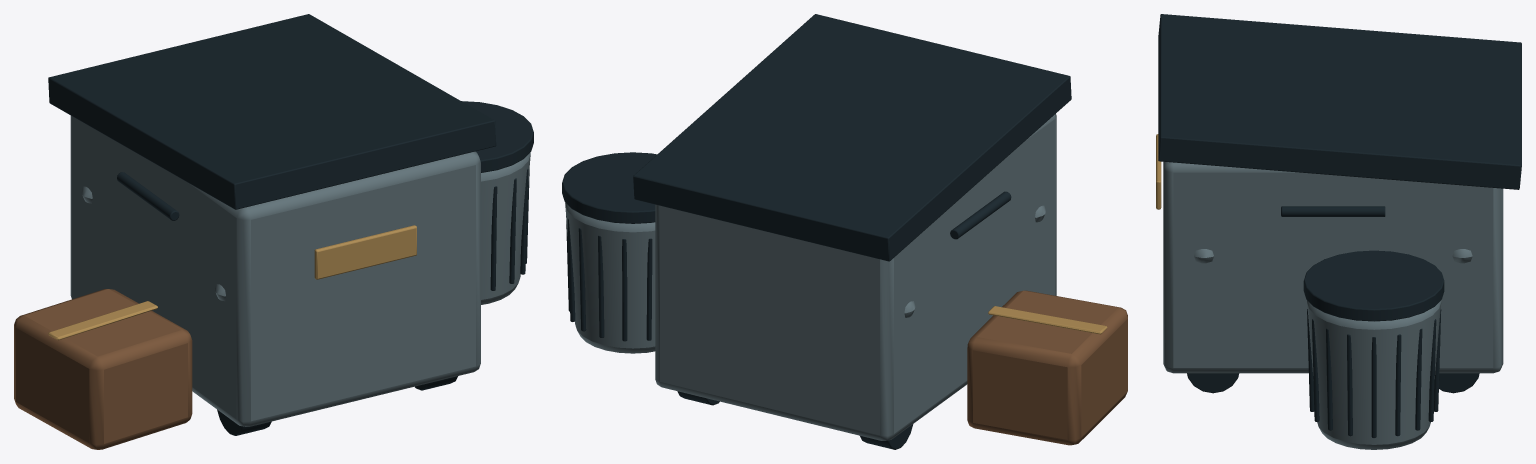
File: alley_props.glb
3 renders of one model, left to right at view 1: azimuth 30°, elevation 25°; view 2: azimuth 150°, elevation 25°; view 3: azimuth 270°, elevation 25°, orthographic. The views are drawn at different scales.
Parts seen in each view (by area): view 1: Detail.alley_props.Metal, Detail.alley_props.Dark, Detail.alley_props.Wood, Detail.alley_props.Brass; view 2: Detail.alley_props.Metal, Detail.alley_props.Dark, Detail.alley_props.Wood, Detail.alley_props.Brass; view 3: Detail.alley_props.Dark, Detail.alley_props.Metal, Detail.alley_props.Brass.
Part boxes in pixels (left/top/right/bottom): Detail.alley_props.Metal: left=70, top=115, right=530, bottom=426; Detail.alley_props.Dark: left=48, top=14, right=533, bottom=435; Detail.alley_props.Wood: left=14, top=289, right=192, bottom=449; Detail.alley_props.Brass: left=48, top=225, right=416, bottom=340; Detail.alley_props.Metal: left=565, top=114, right=1056, bottom=440; Detail.alley_props.Dark: left=562, top=14, right=1071, bottom=449; Detail.alley_props.Wood: left=967, top=290, right=1127, bottom=445; Detail.alley_props.Brass: left=988, top=306, right=1107, bottom=334; Detail.alley_props.Dark: left=1158, top=14, right=1521, bottom=437; Detail.alley_props.Metal: left=1163, top=161, right=1503, bottom=449; Detail.alley_props.Brass: left=1156, top=134, right=1161, bottom=209.
Size of the model in its own units: 2.54 by 1.3 by 1.61.
